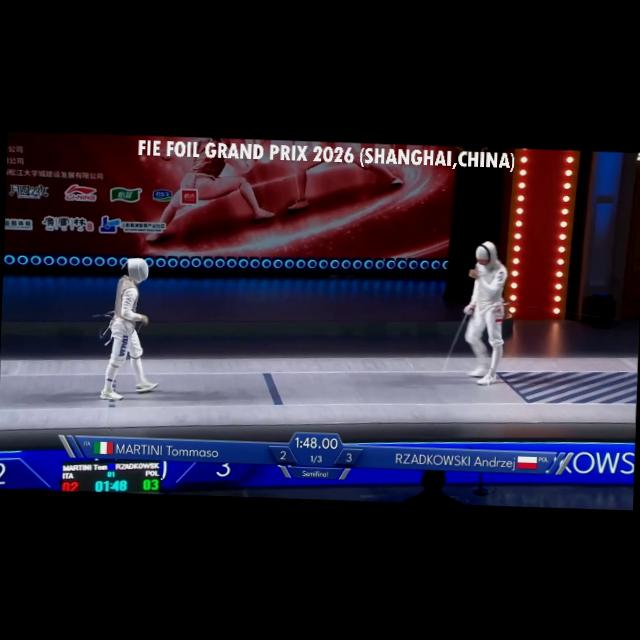blade: (437, 299, 474, 382), (134, 314, 150, 334)
